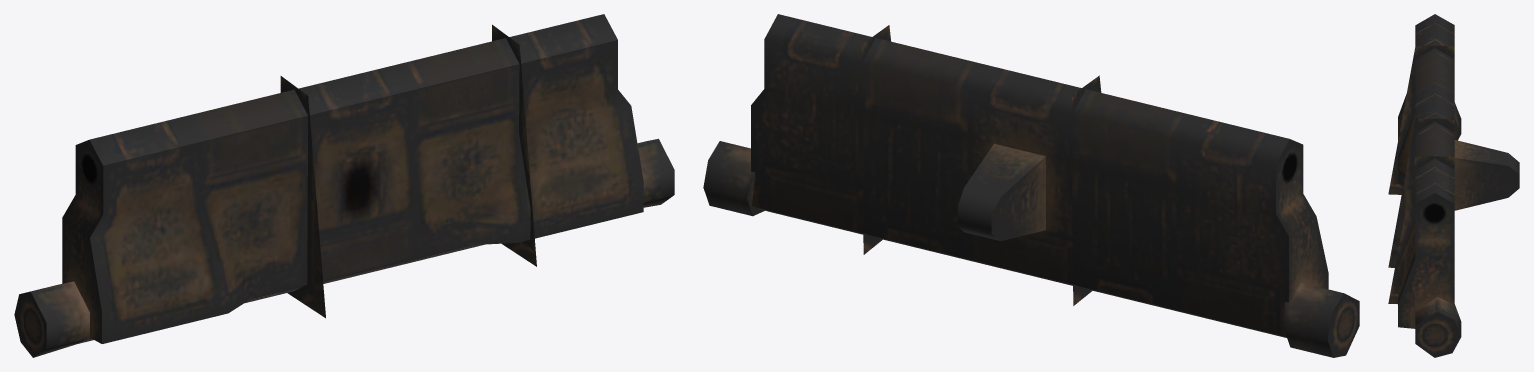
3 renders of one model, left to right at view 1: azimuth 30°, elevation 25°; view 2: azimuth 150°, elevation 25°; view 3: azimuth 270°, elevation 25°, orthographic. The views are drawn at different scales.
Visible parts, largest first — view 1: set_0_group_0; view 2: set_0_group_0; view 3: set_0_group_0.
Boxes of the visible parts, x1,y1,x2,y2 form: set_0_group_0: (14,14,674,357); set_0_group_0: (703,14,1359,357); set_0_group_0: (1388,14,1519,357).
Size of the model in its own units: 0.5954 by 0.1923 by 0.1515.
Materials: 1 (1 with a texture image).
